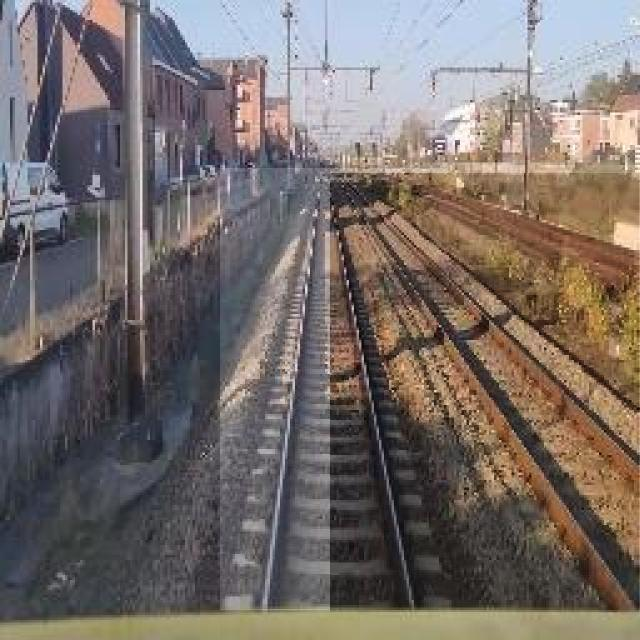rail: (332, 174, 640, 613), (221, 170, 449, 611)
